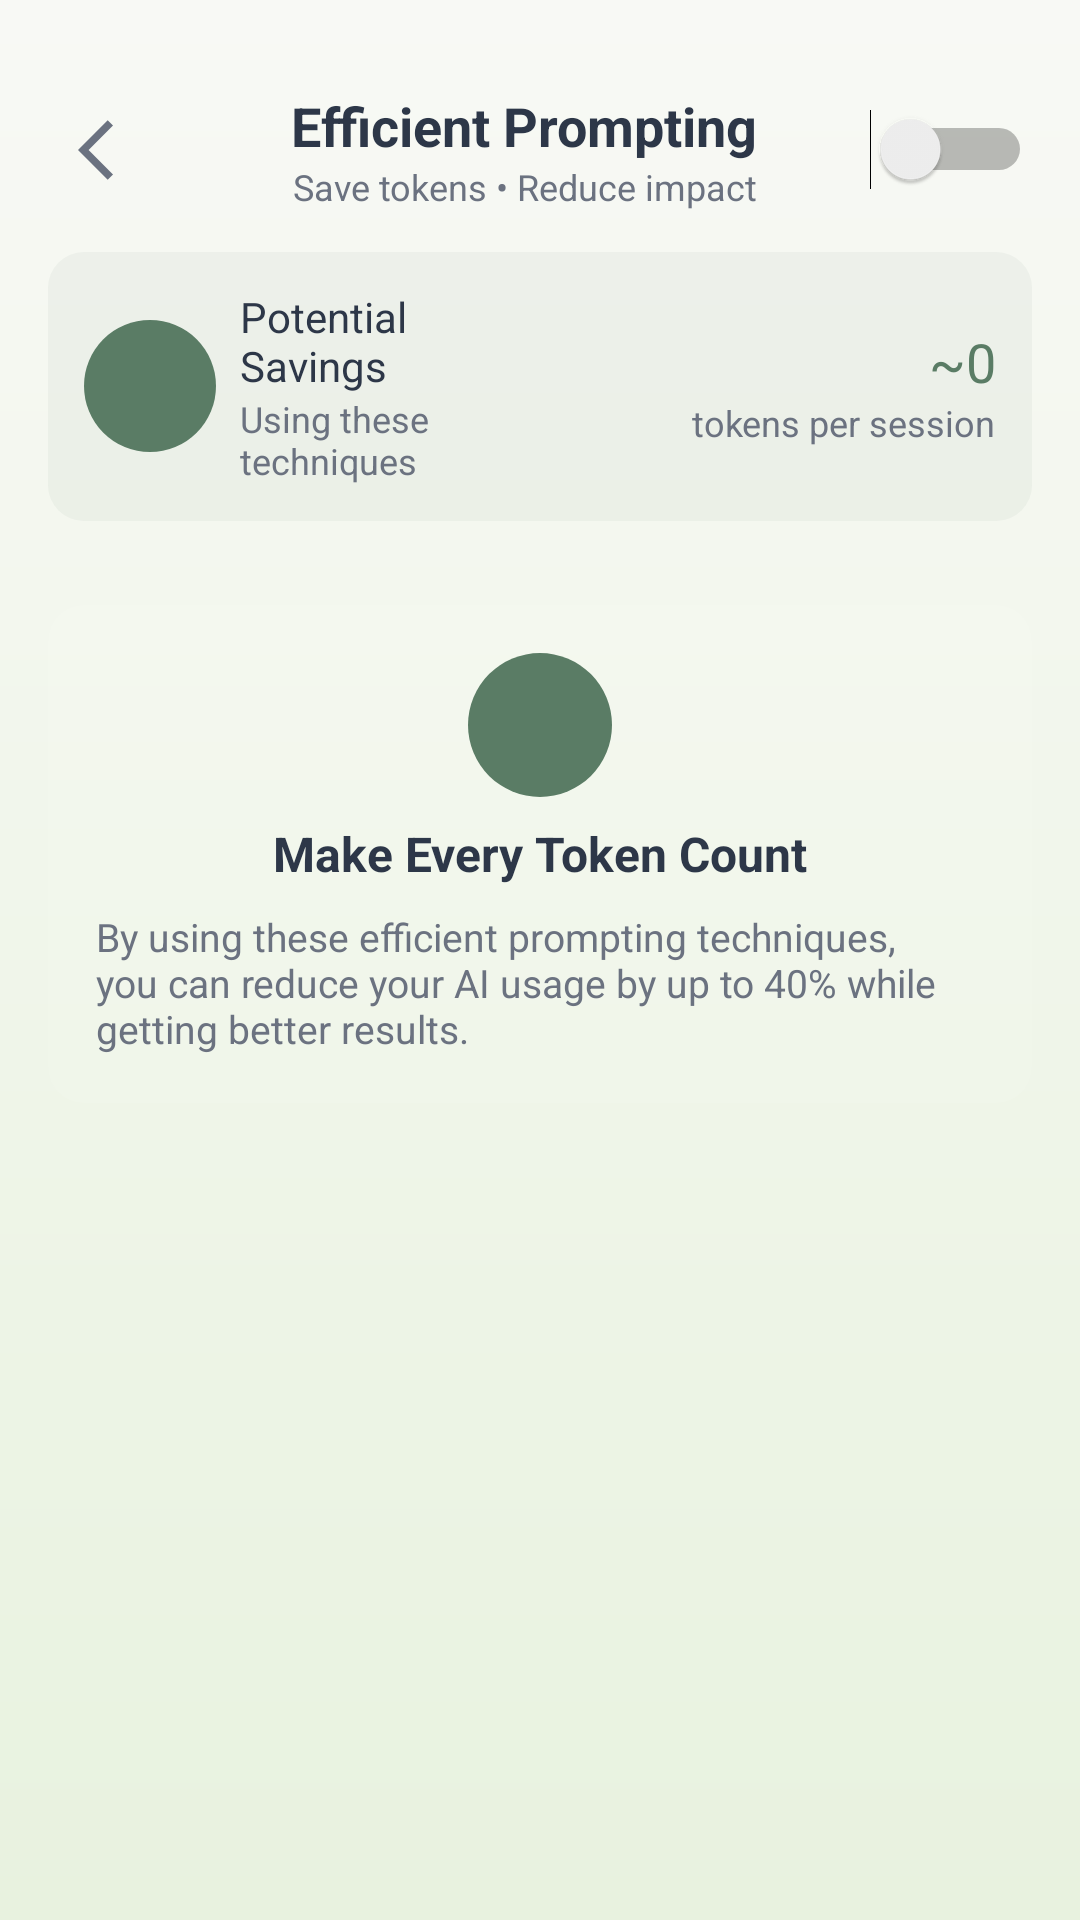

Screen size 1080px×1920px. Icon name, then its center in pixels as (x,y):
Back: (95,150)
